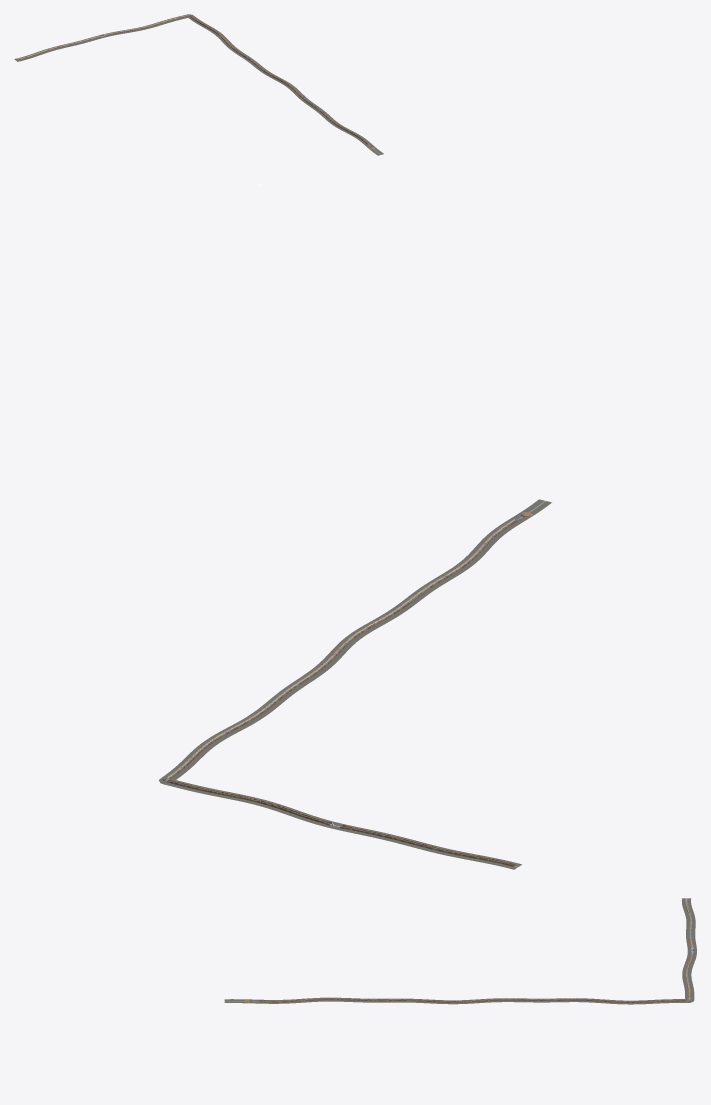
Rendered from pamplona.glb.
3 views of the same model, one above another, from view 1: azimuth 30°, elevation 25°; view 2: azimuth 150°, elevation 25°; view 3: azimuth 270°, elevation 25° (orthographic). The views are drawn at different scales.
Parts seen in each view (by area): view 1: no part large enough to name; view 2: no part large enough to name; view 3: Land_007, Land_005, Land_004, Land_008, Land_006.
Boxes of the visible parts, left/top/right/bottom form: Land_007: left=355, top=998, right=428, bottom=1003; Land_005: left=500, top=998, right=573, bottom=1002; Land_004: left=573, top=998, right=645, bottom=1004; Land_008: left=283, top=997, right=355, bottom=1003; Land_006: left=428, top=998, right=500, bottom=1004.
Bounding box in the file's own units: 7537 × 722 × 9017.
